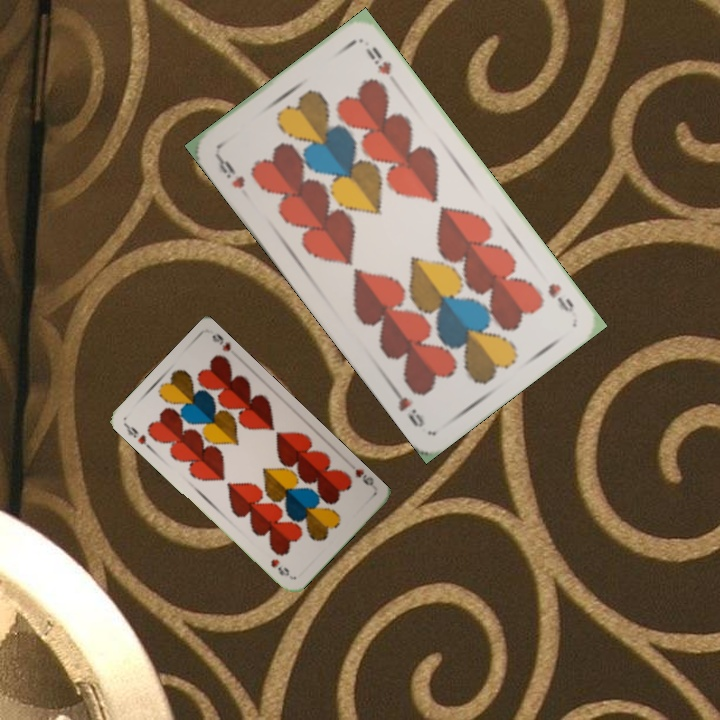H9: (212, 150, 248, 191), (544, 279, 577, 315), (121, 420, 154, 452), (351, 465, 376, 488)
